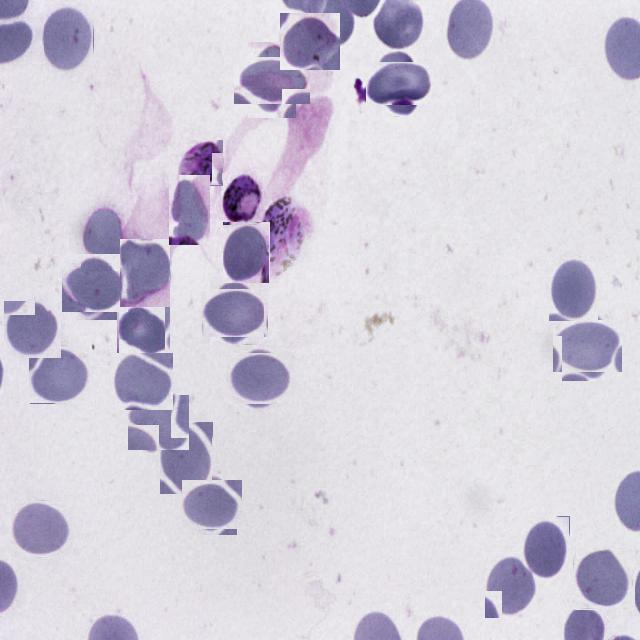difficult: (178, 140, 224, 186), (222, 173, 262, 225)
red blood cell: (241, 49, 303, 111), (160, 422, 213, 494), (485, 552, 540, 618), (558, 316, 618, 376), (574, 549, 634, 609), (30, 344, 89, 404), (12, 500, 72, 559), (230, 349, 290, 408), (129, 393, 187, 452), (280, 13, 340, 70), (113, 353, 173, 410), (120, 239, 170, 307), (206, 284, 264, 342), (4, 300, 62, 358), (66, 258, 124, 316), (44, 5, 94, 72), (549, 256, 598, 321), (522, 516, 570, 580), (185, 477, 240, 532), (81, 204, 126, 271), (371, 56, 425, 111), (169, 175, 210, 245), (223, 222, 270, 283), (118, 305, 169, 357)
